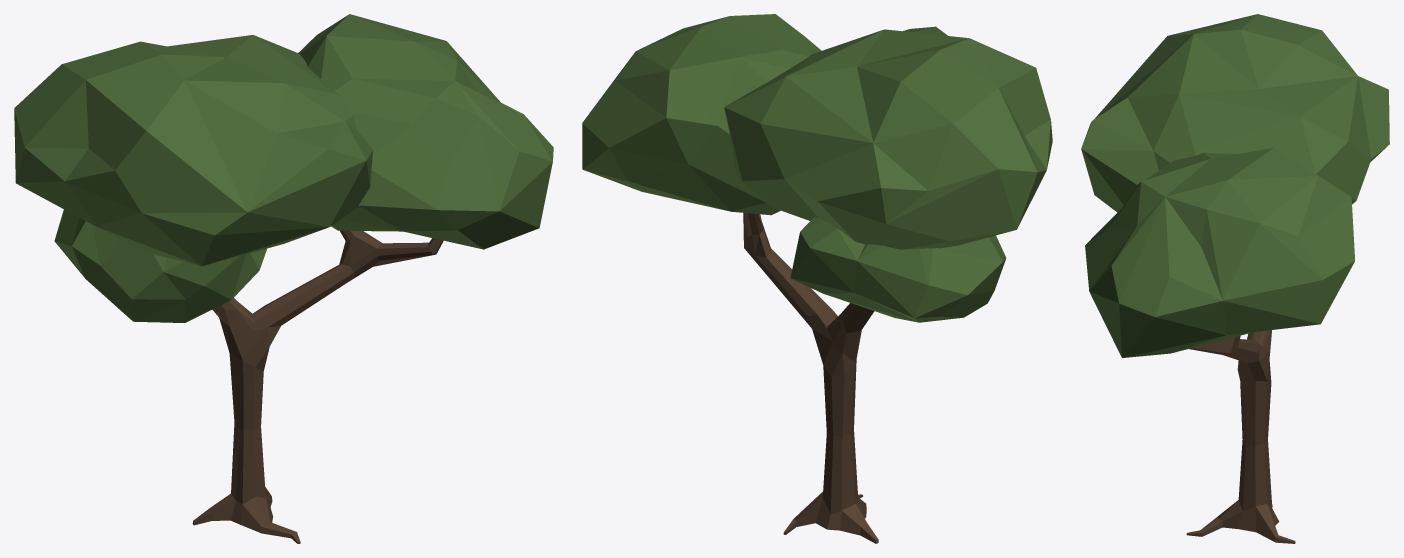
The model's file is SM_Envr_Nature_Farm_Tree_Lemon_Young.fbx.
3 views of the same model, side by side, from view 1: azimuth 30°, elevation 25°; view 2: azimuth 150°, elevation 25°; view 3: azimuth 270°, elevation 25° (orthographic). The views are drawn at different scales.
Visible parts, largest first — view 1: SM_Envr_Nature_Farm_Tree_Lemon_Young; view 2: SM_Envr_Nature_Farm_Tree_Lemon_Young; view 3: SM_Envr_Nature_Farm_Tree_Lemon_Young.
Boxes of the visible parts, x1,y1,x2,y2 form: SM_Envr_Nature_Farm_Tree_Lemon_Young: (14, 14, 553, 543); SM_Envr_Nature_Farm_Tree_Lemon_Young: (582, 14, 1052, 543); SM_Envr_Nature_Farm_Tree_Lemon_Young: (1081, 14, 1389, 543).
Size of the model in its own units: 647 by 662 by 406.
